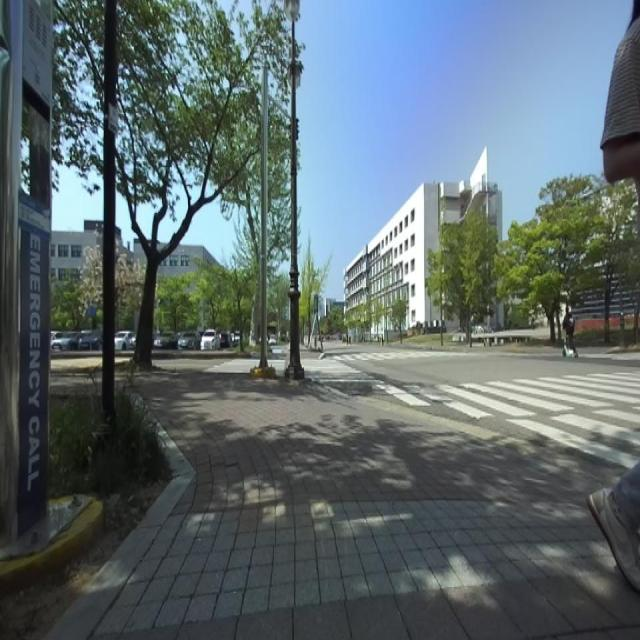sidewalk: (49, 374, 640, 638)
